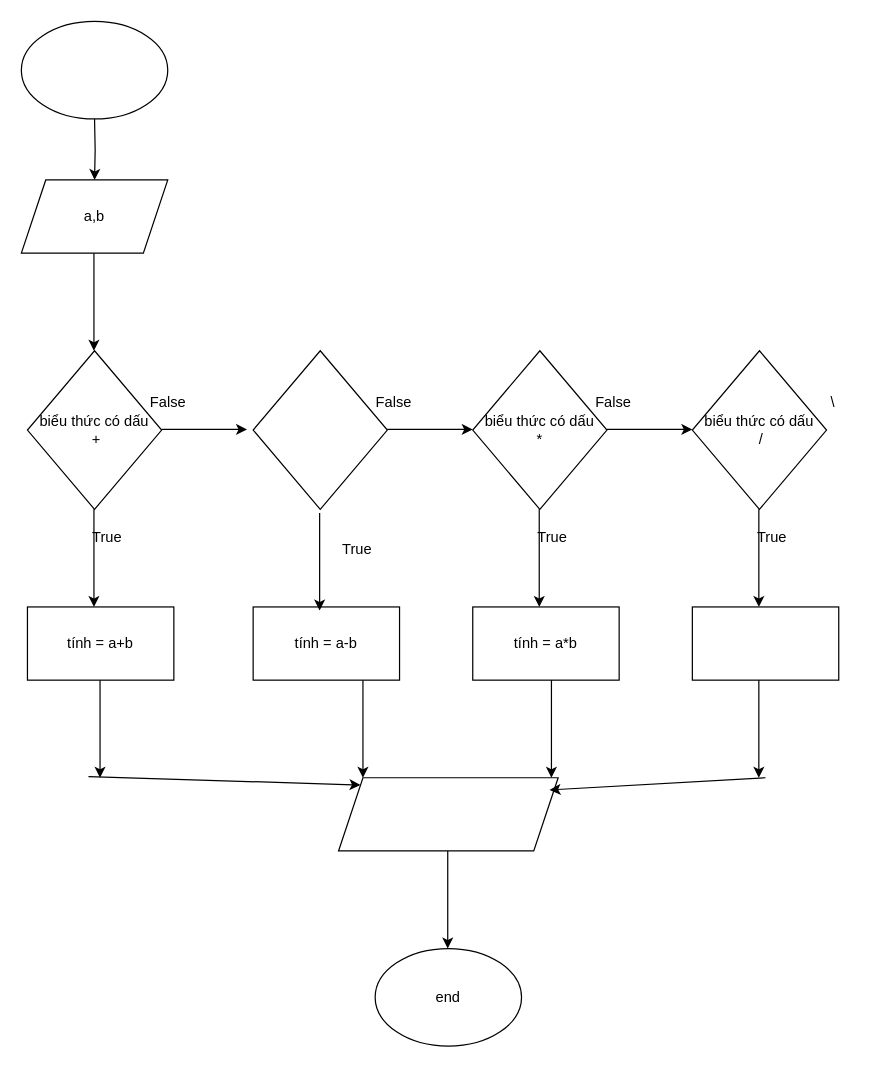
Image size: 872x1068. Some labels were removed from this diagram. The box of each missing label's shape, as (x1, y1, x2, y2) in pixels:
begin: (20, 20, 168, 119)
biểu thức có dấu -: (252, 350, 387, 509)
Kết quả phép tính 2 số: (337, 777, 558, 851)
tính = a/b: (691, 606, 839, 680)
